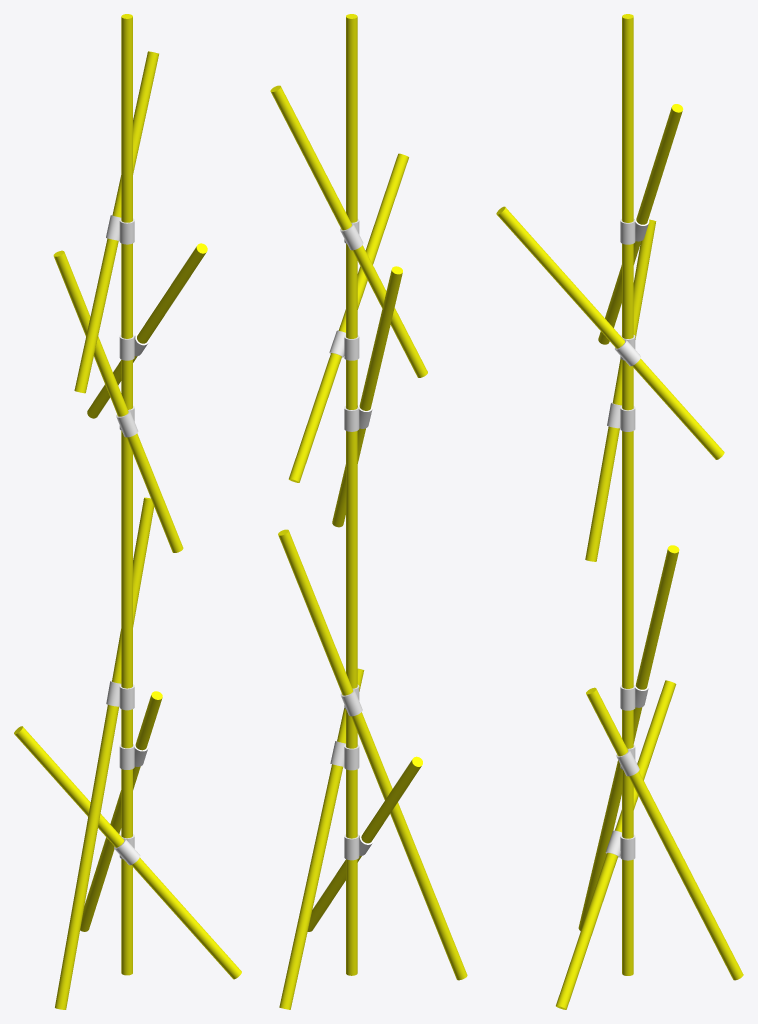
The picture shows the model from 3 angles, left to right: view 1: azimuth 30°, elevation 25°; view 2: azimuth 150°, elevation 25°; view 3: azimuth 270°, elevation 25°; orthographic projection.
Visible parts, largest first — view 1: 01 sticks base, 02 sticks addition, 01 base, 02 addittion; view 2: 01 sticks base, 02 sticks addition, 02 addittion, 01 base; view 3: 01 sticks base, 02 sticks addition, 02 addittion, 01 base.
Boxes of the visible parts, x1,y1,x2,y2 form: 01 sticks base: (14, 14, 241, 1009); 02 sticks addition: (53, 51, 207, 552); 01 base: (106, 680, 148, 865); 02 addittion: (106, 215, 149, 437); 01 sticks base: (278, 14, 467, 1009); 02 sticks addition: (270, 85, 427, 527); 02 addittion: (329, 219, 372, 431); 01 base: (330, 684, 373, 860); 01 sticks base: (556, 14, 743, 1009); 02 sticks addition: (496, 104, 724, 561); 02 addittion: (607, 216, 649, 431); 01 base: (605, 681, 648, 860).
Size of the model in its own units: 0.3473 by 1.82 by 0.4259.
Materials: 2 (1 with a texture image).
